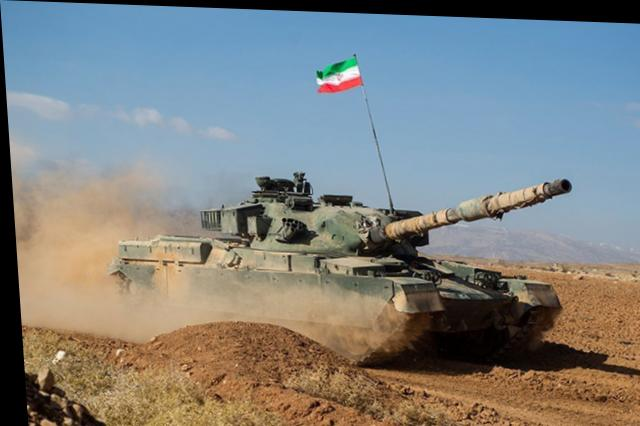tank: (87, 167, 561, 350)
